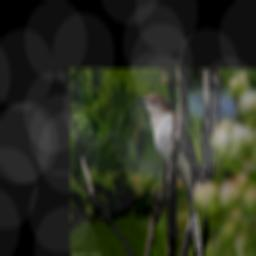Cuckoo: (133, 91, 203, 256)
